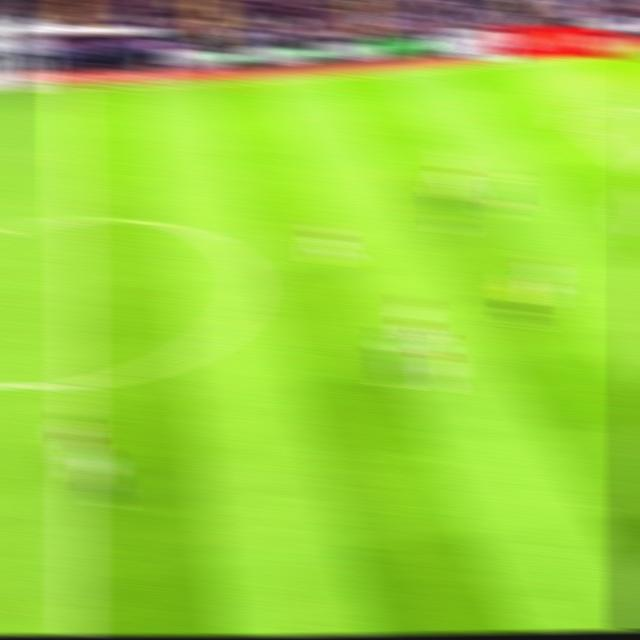bigarea_top_inner: (550, 97, 595, 140)
halfcircle_bottom: (49, 356, 101, 410)
halfcircle_top: (46, 194, 101, 244)
midline_top_intersection: (50, 63, 95, 116)
